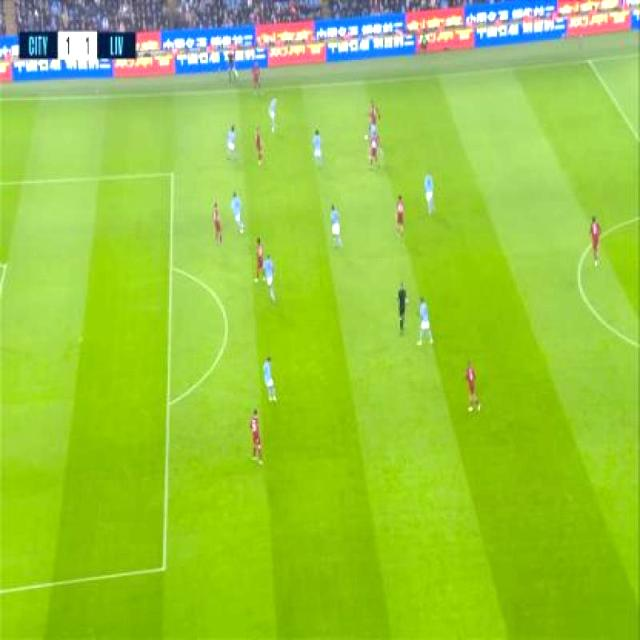bigarea_bottom_inner: (159, 558, 169, 577)
bigarea_top_inner: (168, 166, 178, 184)
bottom_arc_area_intersection: (164, 396, 174, 412)
midline_top_intersection: (584, 54, 594, 69)
smallarea_top_inner: (1, 258, 11, 272)
top_arc_area_intersection: (166, 260, 177, 275)
